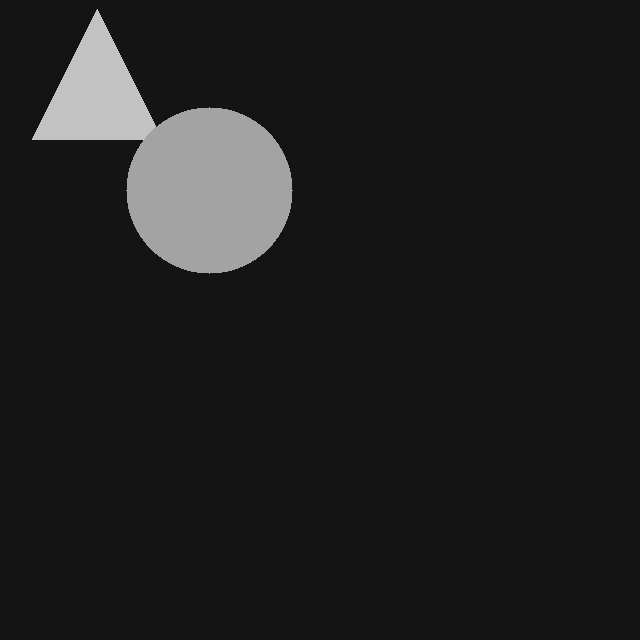circle: (126, 107, 292, 273)
triangle: (32, 9, 162, 139)
